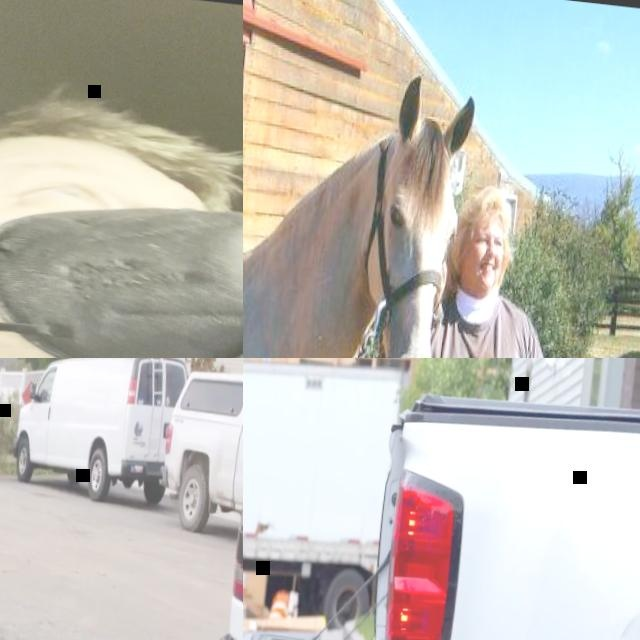Mask: (0, 165, 243, 358)
NO-Hardhat: (0, 67, 215, 194), (463, 183, 514, 234)
NO-Mask: (462, 251, 500, 292)
NO-Safety Vest: (392, 295, 541, 358)
Person: (0, 59, 243, 358), (391, 174, 582, 358)
vehicle: (243, 363, 640, 640), (7, 358, 190, 512), (156, 360, 243, 545)
